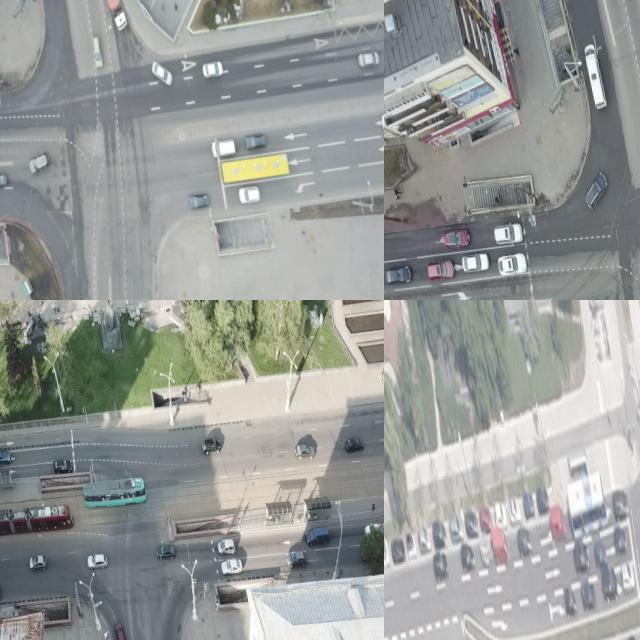UAI: (581, 171, 613, 212), (493, 221, 525, 247), (496, 252, 528, 278), (149, 58, 174, 90), (426, 259, 457, 283), (549, 505, 568, 544), (442, 227, 471, 252), (461, 251, 491, 275), (600, 567, 620, 603), (491, 529, 511, 565), (384, 263, 413, 287), (27, 150, 52, 176), (612, 488, 631, 521), (432, 549, 451, 582), (573, 542, 592, 574), (580, 578, 598, 611), (620, 559, 637, 593), (356, 48, 381, 71), (202, 60, 226, 82), (449, 512, 465, 545), (237, 185, 263, 205), (90, 35, 105, 69), (517, 527, 534, 557), (459, 542, 476, 572), (431, 519, 448, 549), (613, 525, 629, 556), (464, 509, 480, 540), (390, 536, 407, 565), (243, 132, 267, 152), (187, 192, 212, 211), (285, 550, 309, 569), (479, 504, 494, 534), (155, 542, 178, 561), (52, 457, 75, 476), (563, 589, 578, 617), (494, 499, 508, 529), (508, 496, 523, 524), (201, 438, 223, 457), (221, 558, 244, 576), (294, 443, 316, 461), (87, 552, 109, 570), (594, 540, 608, 568), (216, 538, 236, 557), (28, 554, 48, 573), (345, 435, 366, 453), (536, 487, 550, 514), (523, 491, 536, 519), (363, 522, 384, 539), (418, 528, 431, 553), (481, 540, 493, 567), (405, 531, 417, 557), (384, 533, 391, 569), (115, 621, 128, 640), (0, 448, 13, 466), (0, 169, 7, 190)
UAP: (99, 0, 130, 33)
car: (0, 498, 75, 542), (565, 470, 610, 538), (218, 150, 292, 187), (83, 476, 148, 510)
harvester: (583, 42, 610, 112), (210, 136, 238, 159), (305, 525, 331, 547)
